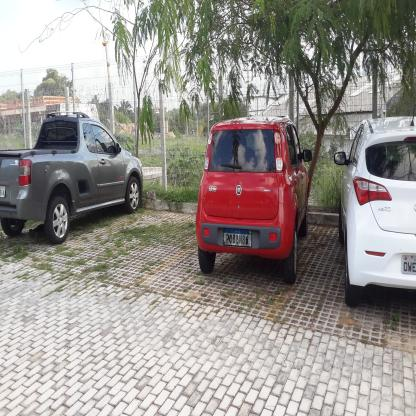PlacaM: (223, 228, 252, 247)
